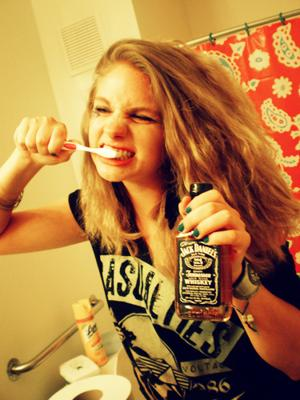person: (3, 38, 300, 400)
